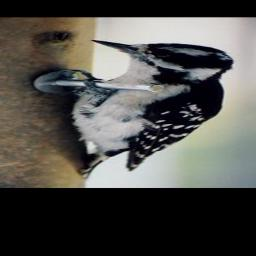Woodpecker: (60, 39, 235, 179)
